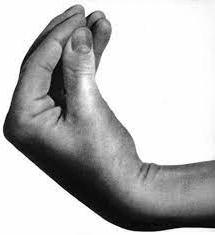Italian-Gesture: (3, 3, 136, 223)
